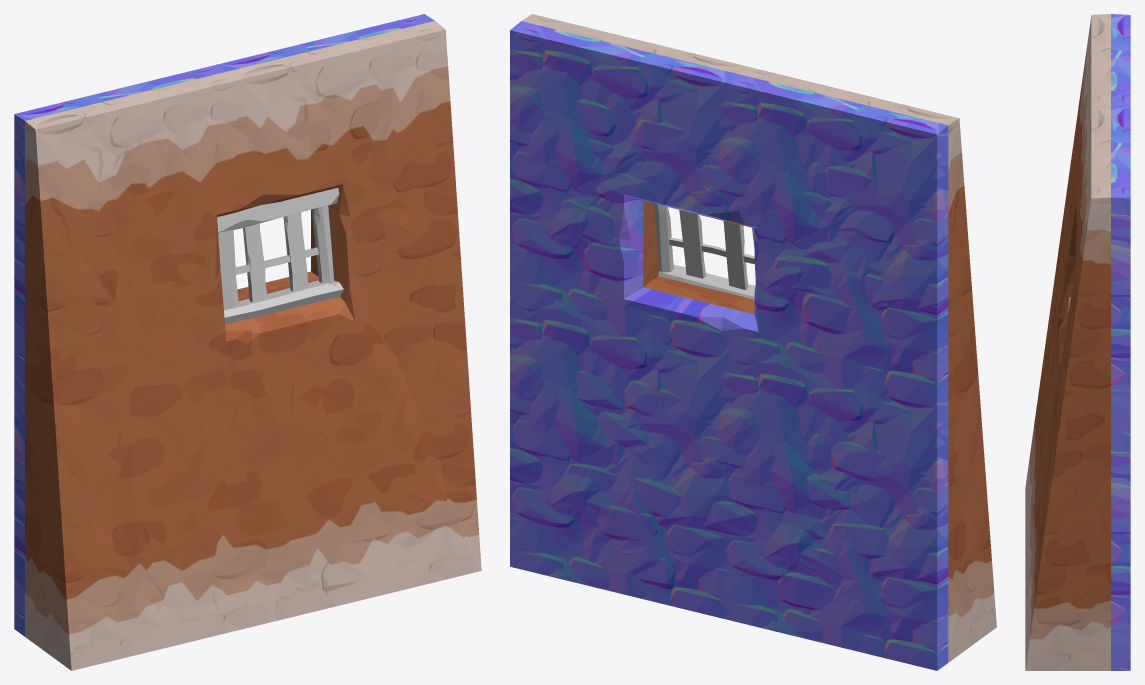
Rendered from SM_Bld_Wall_Top_Window_02.fbx.
The picture shows the model from 3 angles, left to right: view 1: azimuth 30°, elevation 25°; view 2: azimuth 150°, elevation 25°; view 3: azimuth 270°, elevation 25°; orthographic projection. The views are drawn at different scales.
Parts seen in each view (by area): view 1: SM_Bld_Wall_Top_Window_02; view 2: SM_Bld_Wall_Top_Window_02; view 3: SM_Bld_Wall_Top_Window_02.
Part boxes in pixels (box(x1,y1,x2,y2)): SM_Bld_Wall_Top_Window_02: box(14, 14, 481, 670); SM_Bld_Wall_Top_Window_02: box(510, 14, 996, 670); SM_Bld_Wall_Top_Window_02: box(1025, 14, 1130, 670).
Size of the model in its own units: 250 by 301 by 60.45.
